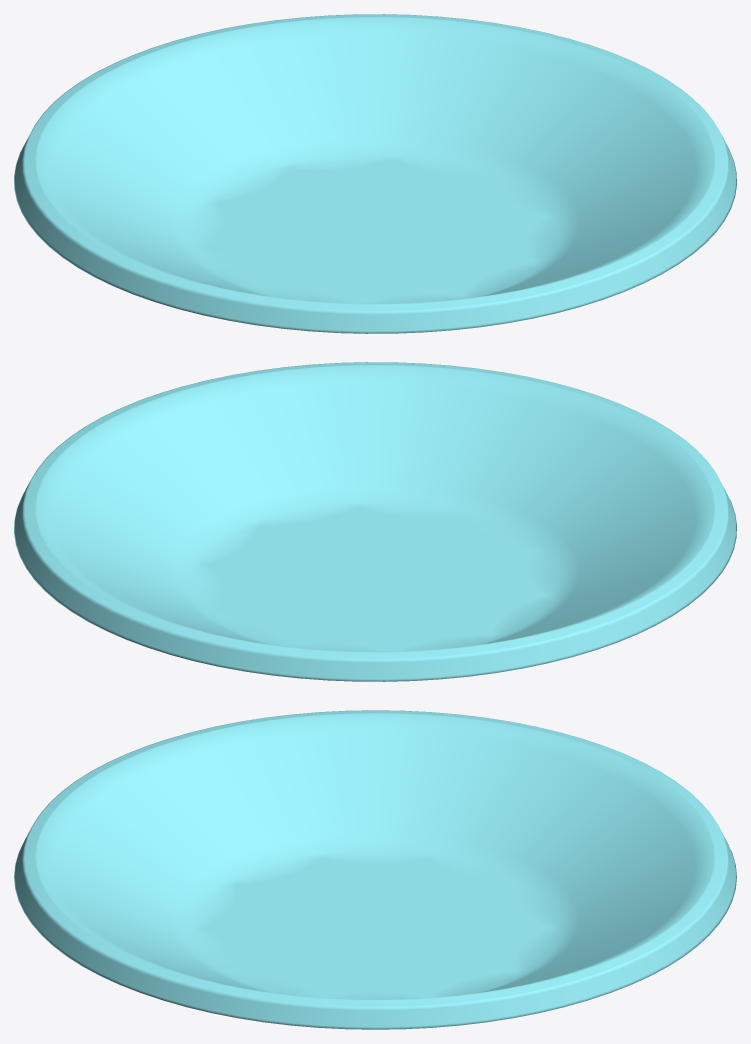
The model's file is plate.fbx.
The picture shows the model from 3 angles, top to bottom: view 1: azimuth 30°, elevation 25°; view 2: azimuth 150°, elevation 25°; view 3: azimuth 270°, elevation 25°; orthographic projection.
Visible parts, largest first — view 1: plate; view 2: plate; view 3: plate.
Part boxes in pixels (box(x1,y1,x2,y2)): plate: box(14, 14, 736, 333); plate: box(14, 362, 736, 681); plate: box(14, 710, 736, 1029).
Size of the model in its own units: 0.8512 by 0.1255 by 0.8516.
